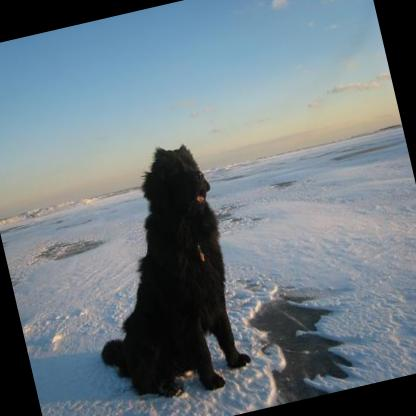Newfoundland: (58, 136, 254, 411)
